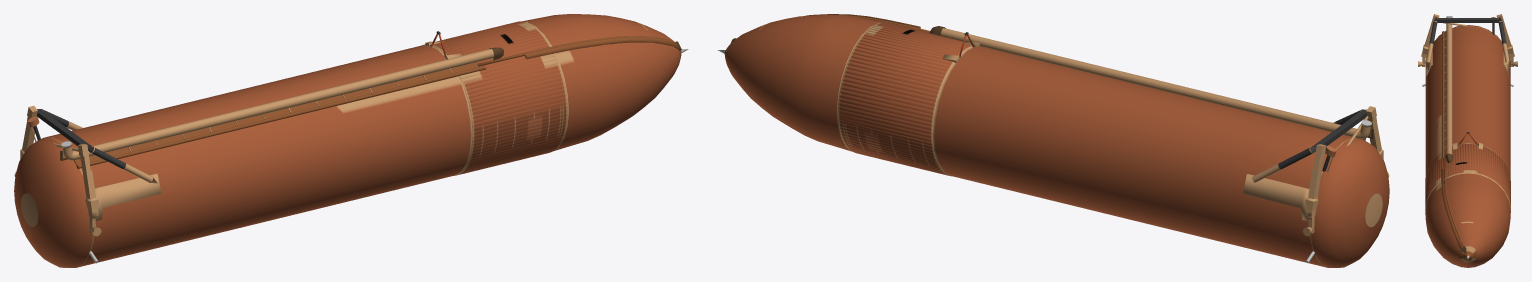
The model's file is ExternalTank.fbx.
3 renders of one model, left to right at view 1: azimuth 30°, elevation 25°; view 2: azimuth 150°, elevation 25°; view 3: azimuth 270°, elevation 25°, orthographic. The views are drawn at different scales.
Parts seen in each view (by area): view 1: ExternalTank_41; view 2: ExternalTank_41; view 3: ExternalTank_41.
Boxes of the visible parts, box(x1,y1,x2,y2) form: ExternalTank_41: box(14, 14, 688, 267); ExternalTank_41: box(717, 14, 1389, 267); ExternalTank_41: box(1418, 14, 1517, 267).
Bounding box in the file's own units: 4774 × 985 × 964.
